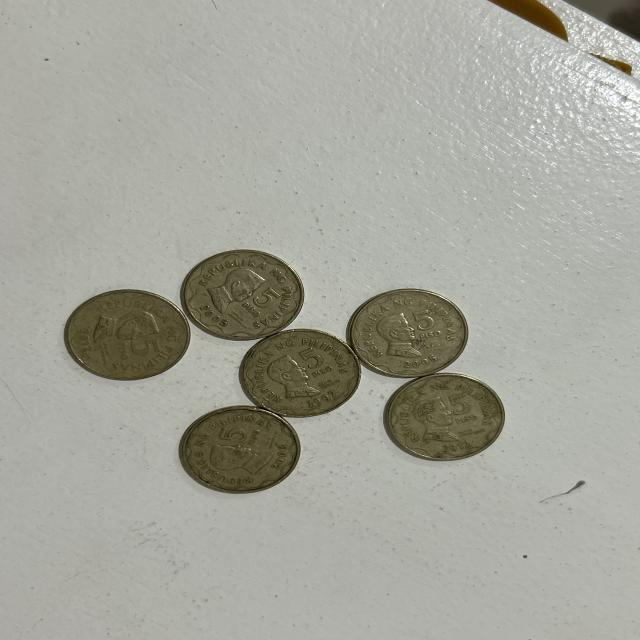5_Old_Front: (287, 345, 339, 384), (214, 425, 271, 453), (449, 389, 484, 423), (410, 307, 439, 346), (115, 336, 157, 362), (238, 286, 275, 314)
